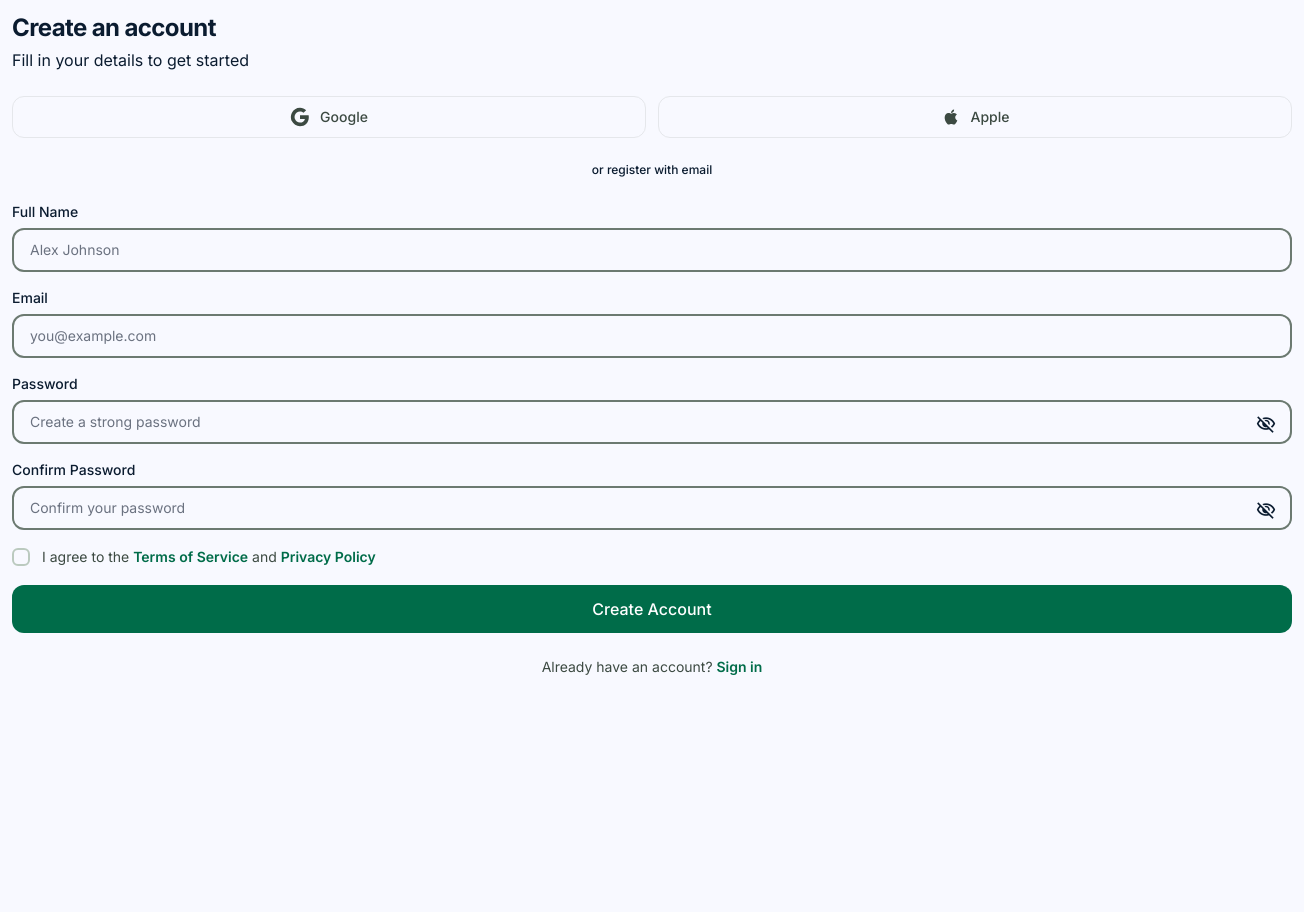
Test case: RegisterPage › failed registration shows error message
Type "Test User" into the field labelled "Full Name" at (652, 250), box [12,228,1292,272]
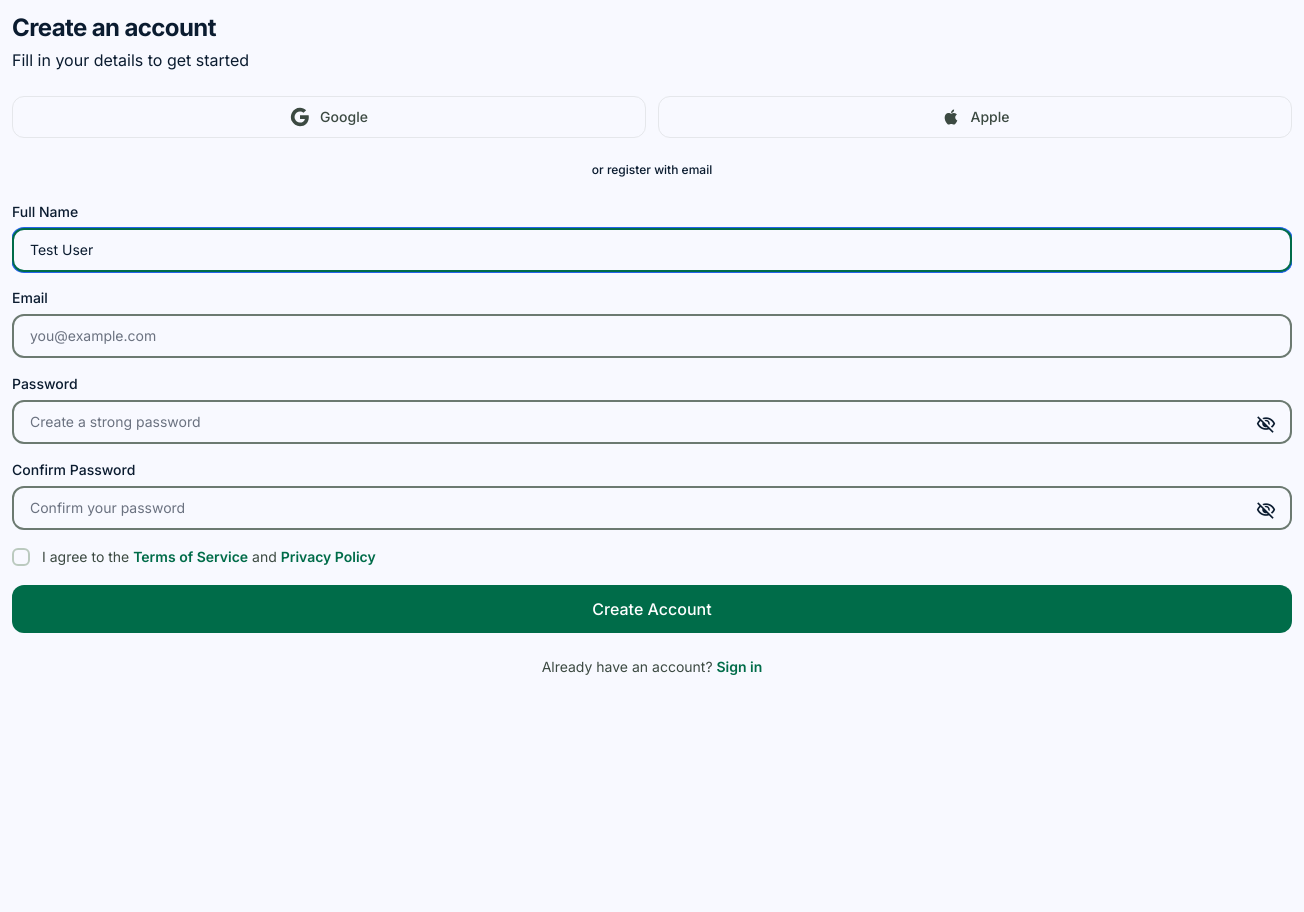
Type "existing@example.com" into the field labelled "Email" at (652, 336), box [12,314,1292,358]
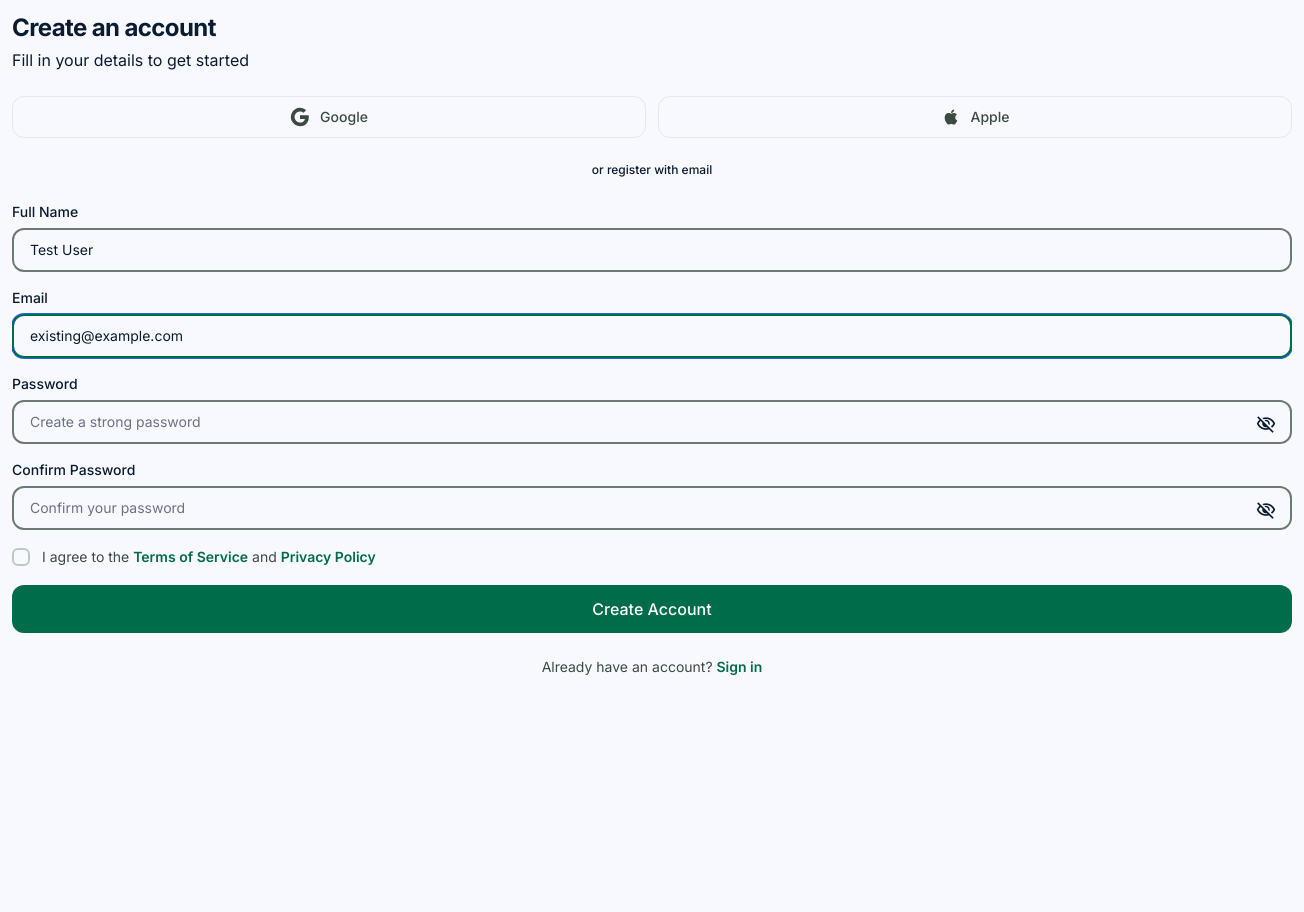
Type "password123" into the password field labelled "Password" at (652, 422), box [12,400,1292,444]
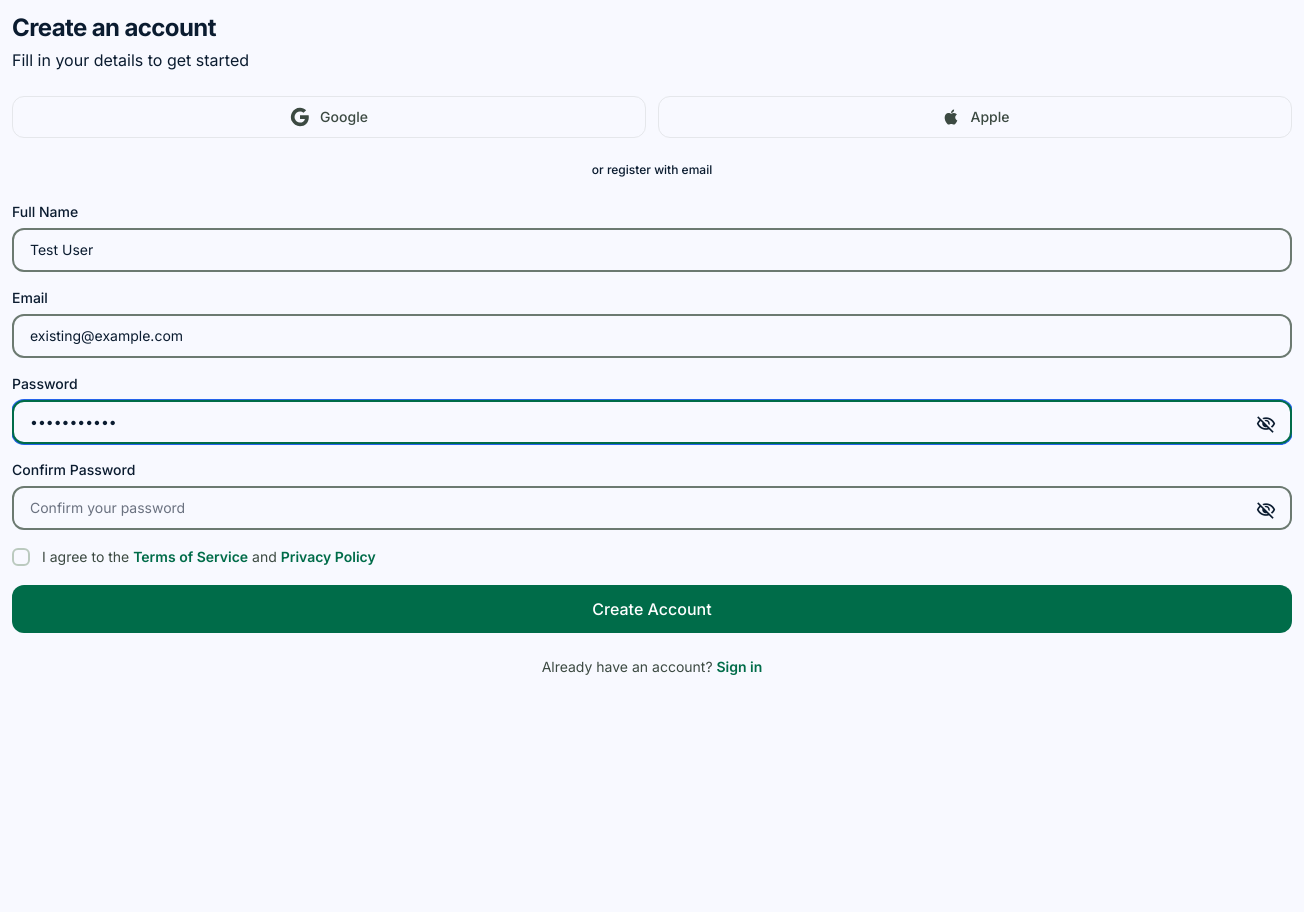
Type "password123" into the password field labelled "Confirm Password" at (652, 508), box [12,486,1292,530]
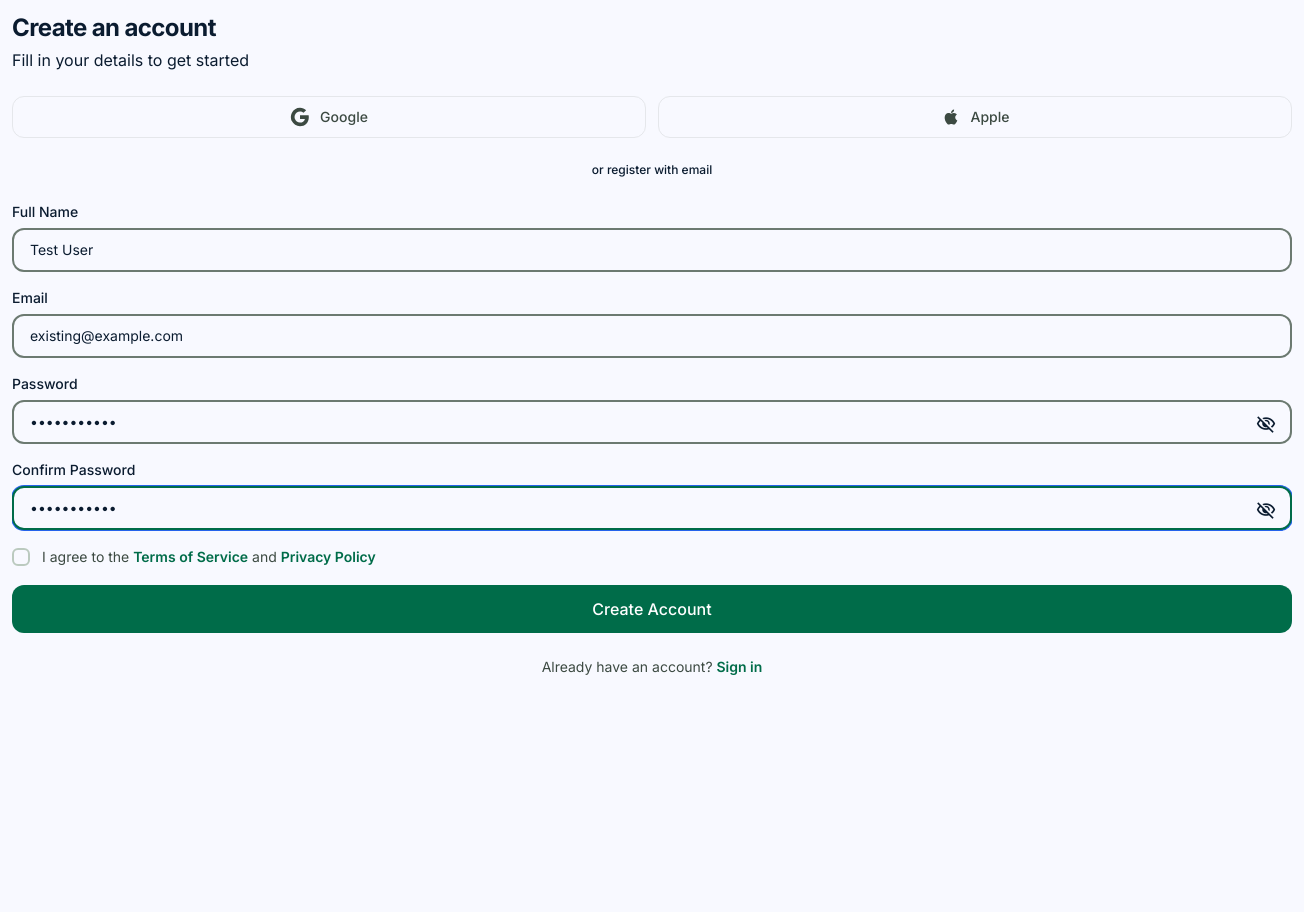
Click the text "I agree to the Terms of Service and Privacy Policy" at (209, 557), box [42,546,376,569]
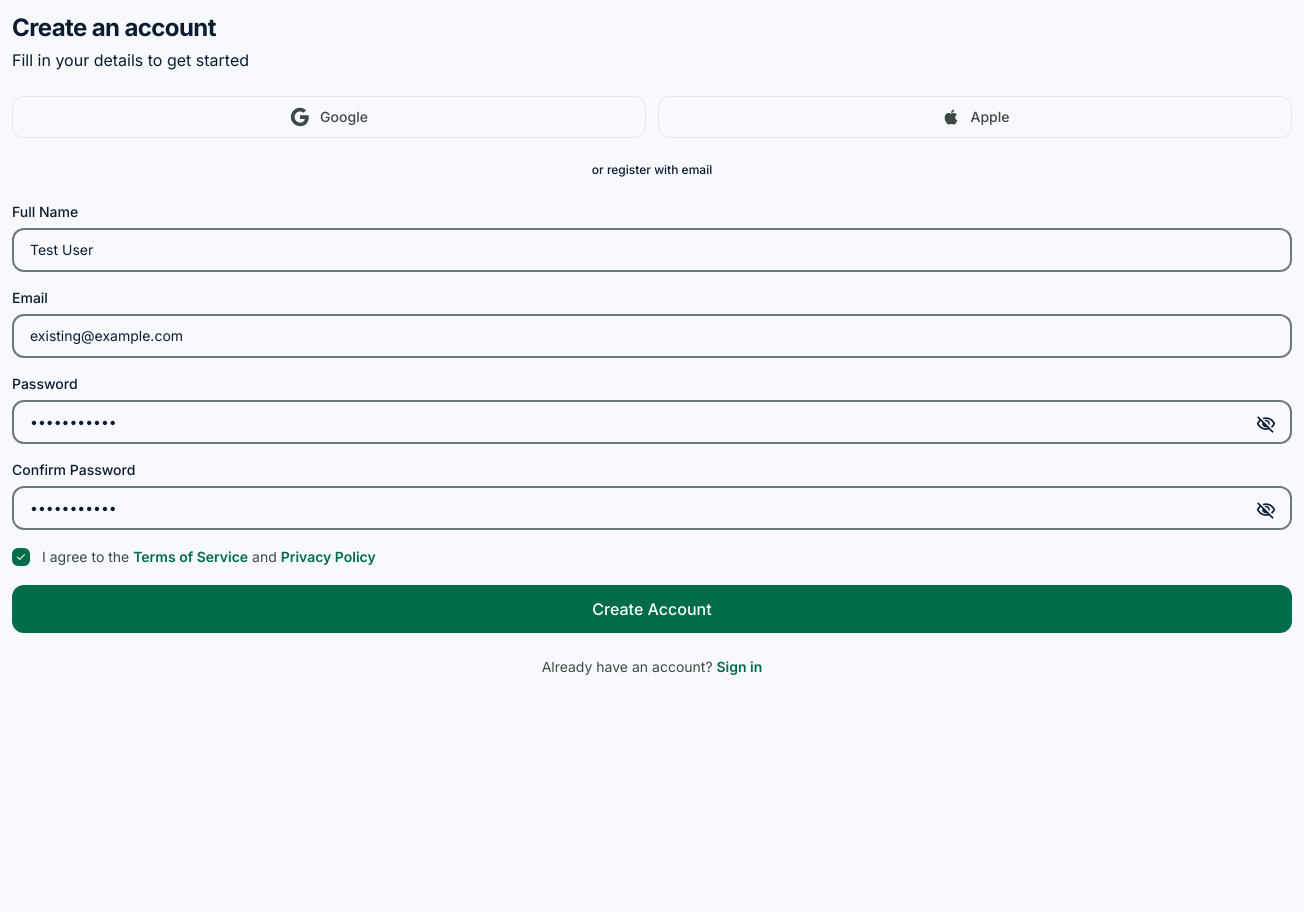
Click the button "Create Account" at (652, 609), box [12,585,1292,633]
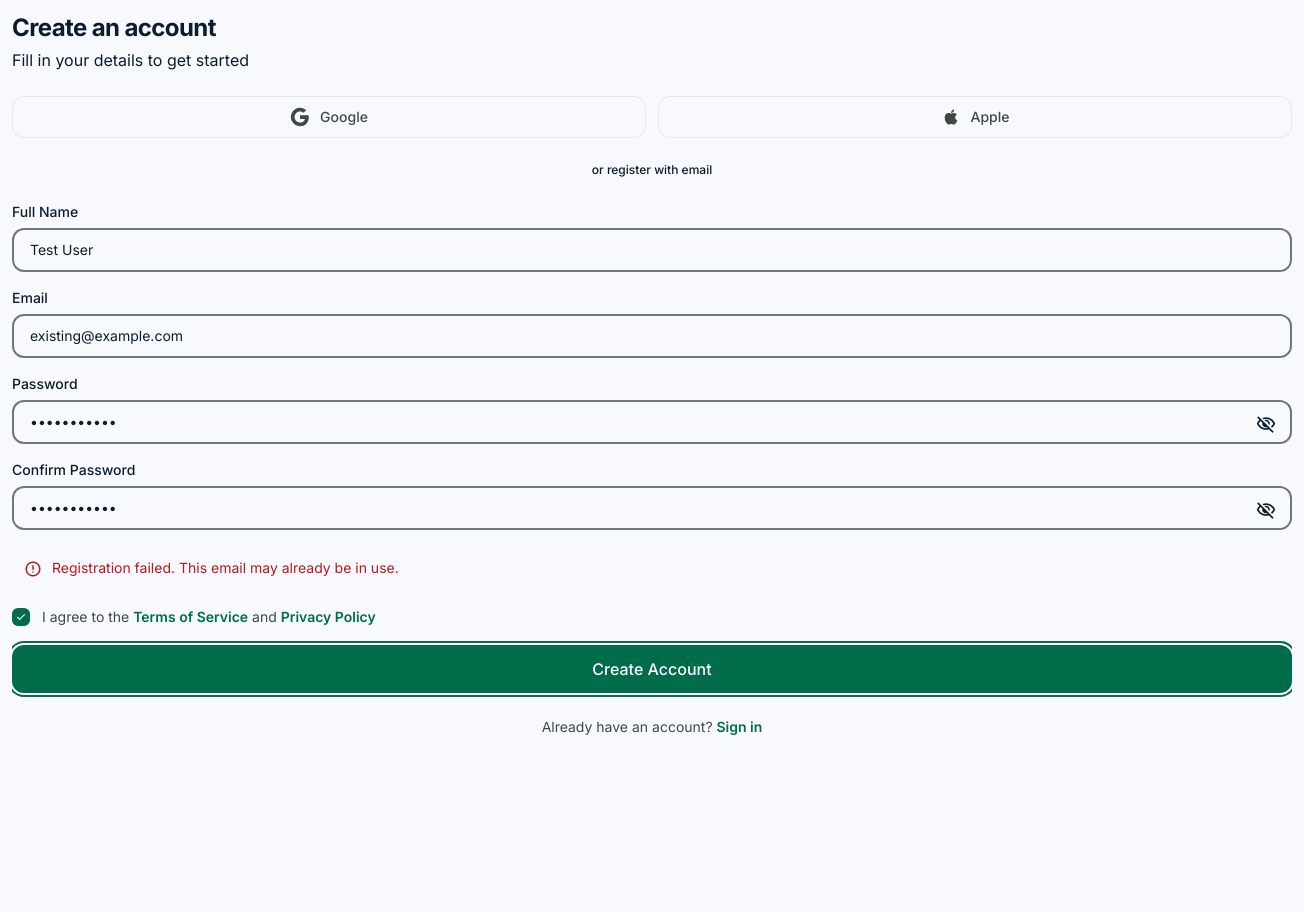
Expected: the text "Registration failed. This email may already be in use." is shown, [52,558,399,578]
